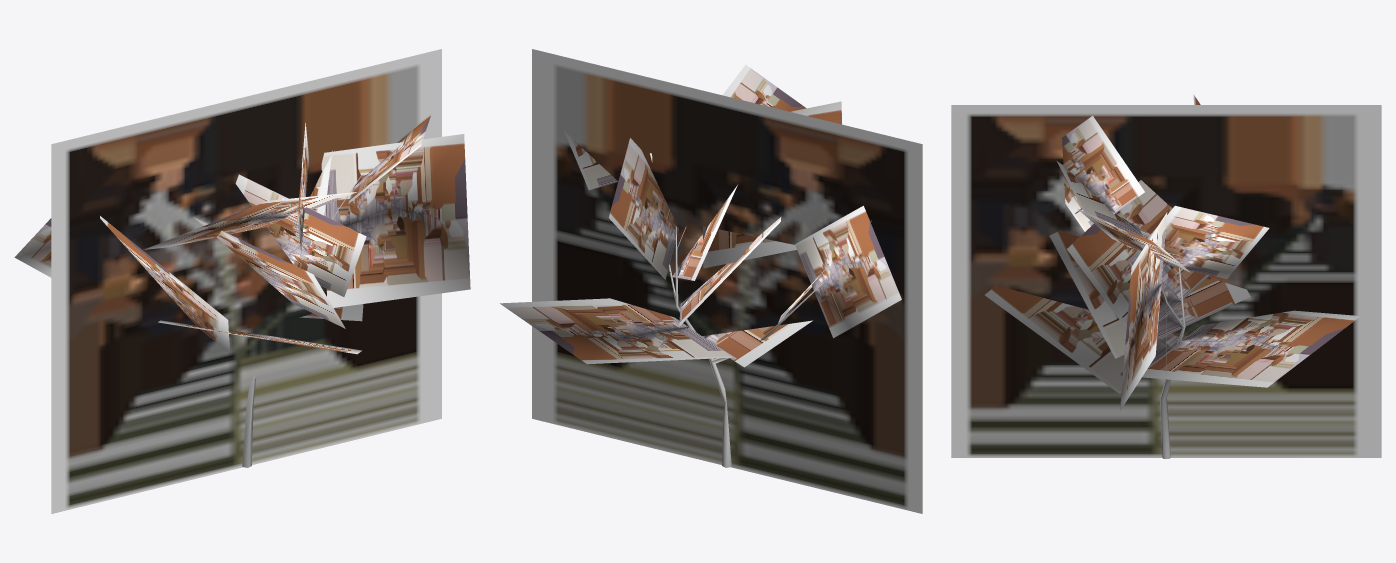
Rendered from Tree-Beech6D.fbx.
3 renders of one model, left to right at view 1: azimuth 30°, elevation 25°; view 2: azimuth 150°, elevation 25°; view 3: azimuth 270°, elevation 25°, orthographic. The views are drawn at different scales.
Parts seen in each view (by area): view 1: Billboard-BeechD, Tree-Beech6D_LOD0; view 2: Billboard-BeechD, Tree-Beech6D_LOD0; view 3: Billboard-BeechD, Tree-Beech6D_LOD0.
Part boxes in pixels (x1,y1,x2,y2): Billboard-BeechD: (51, 49, 441, 513); Tree-Beech6D_LOD0: (14, 113, 470, 467); Billboard-BeechD: (532, 49, 922, 513); Tree-Beech6D_LOD0: (500, 64, 901, 467); Billboard-BeechD: (951, 105, 1381, 457); Tree-Beech6D_LOD0: (985, 94, 1360, 458).
Size of what is drawn, in the model's own units: 929 by 815 by 901.
